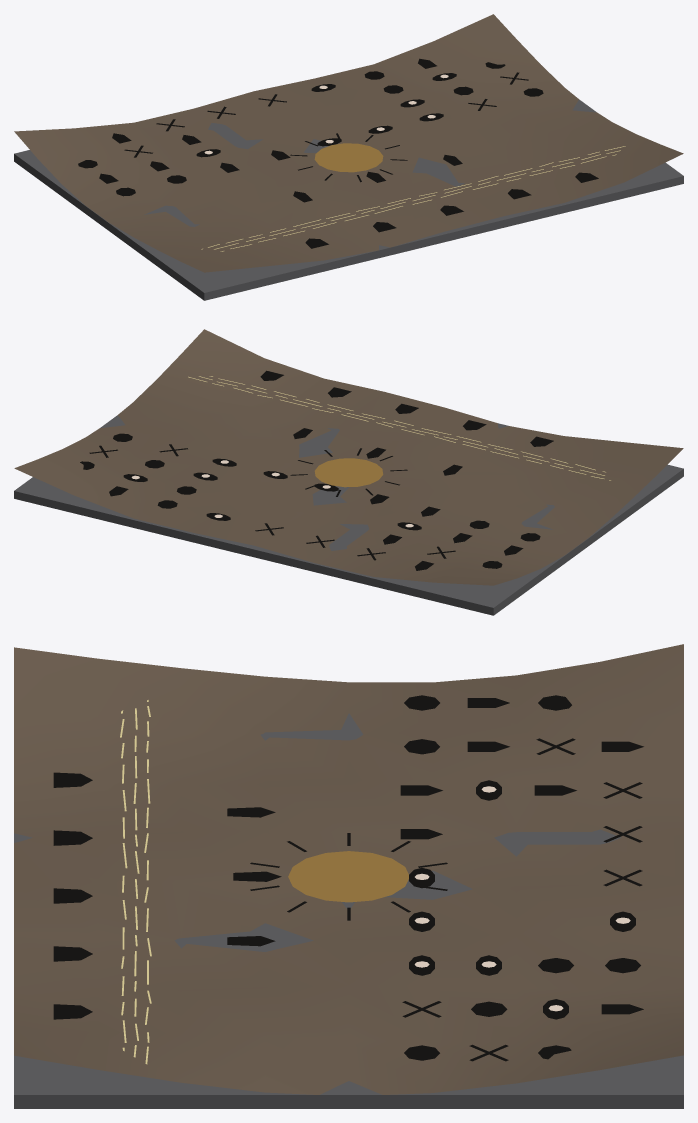
File: macchina_plate.glb
The picture shows the model from 3 angles, top to bottom: view 1: azimuth 30°, elevation 25°; view 2: azimuth 150°, elevation 25°; view 3: azimuth 270°, elevation 25°; orthographic projection. The views are drawn at different scales.
Visible parts, largest first — view 1: teil0, teil1, teil2, teil4, teil5; view 2: teil0, teil1, teil2, teil4, teil5; view 3: teil0, teil1, teil2, teil4, teil5.
Part boxes in pixels (x1,y1,x2,y2): teil0: (14, 14, 683, 272); teil1: (14, 99, 683, 300); teil2: (78, 58, 598, 248); teil4: (314, 143, 383, 172); teil5: (201, 146, 625, 251); teil0: (14, 329, 683, 585); teil1: (14, 415, 683, 615); teil2: (80, 370, 553, 570); teil4: (314, 458, 383, 487); teil5: (188, 376, 610, 480); teil0: (14, 644, 683, 1094); teil1: (14, 713, 683, 1108); teil2: (53, 695, 643, 1061); teil4: (288, 851, 408, 902); teil5: (120, 700, 151, 1064).
Size of the model in its own units: 0.32 by 0.0194 by 0.22.
